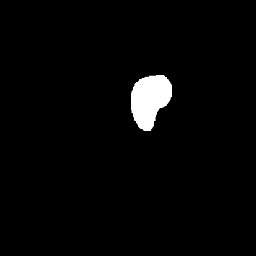mass: (132, 78, 176, 130)
